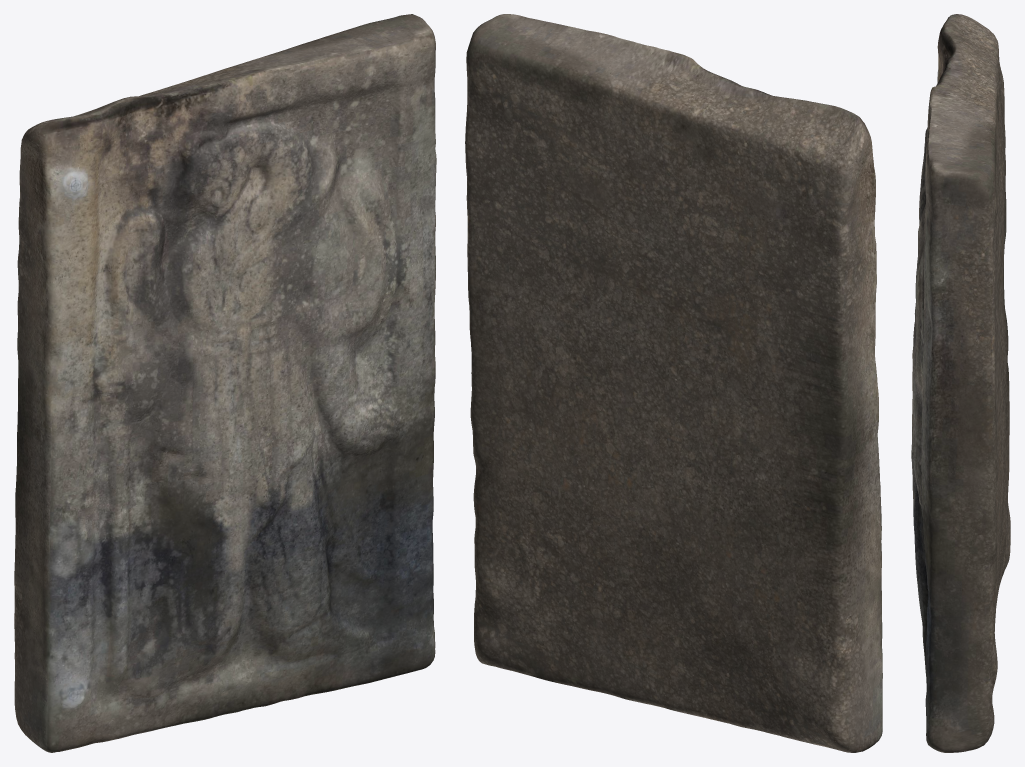
3 renders of one model, left to right at view 1: azimuth 30°, elevation 25°; view 2: azimuth 150°, elevation 25°; view 3: azimuth 270°, elevation 25°, orthographic. The views are drawn at different scales.
Parts seen in each view (by area): view 1: Object_2; view 2: Object_2; view 3: Object_2.
Part boxes in pixels (bbox=[...]): Object_2: bbox=[14, 14, 436, 752]; Object_2: bbox=[465, 14, 882, 752]; Object_2: bbox=[911, 14, 1010, 752].
Bounding box in the file's own units: 0.6227 × 0.9624 × 0.1487.
1 material, 1 textured.
